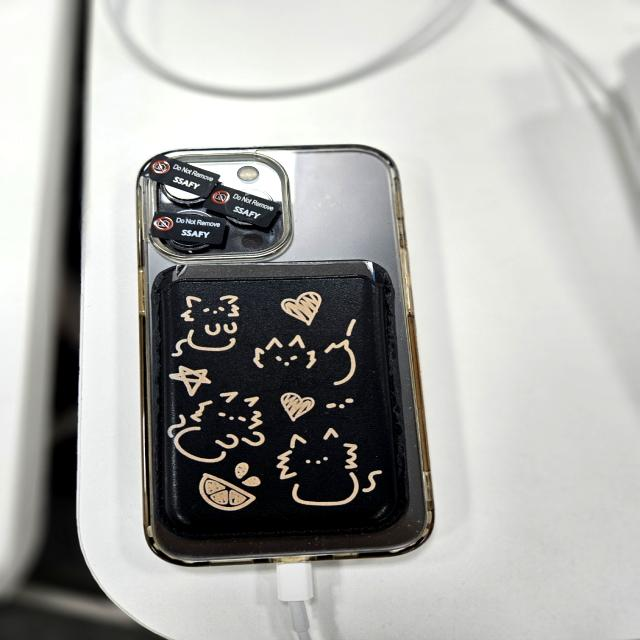phone: (132, 144, 440, 567)
sticker: (204, 184, 282, 228), (146, 153, 220, 198), (147, 210, 228, 247)
